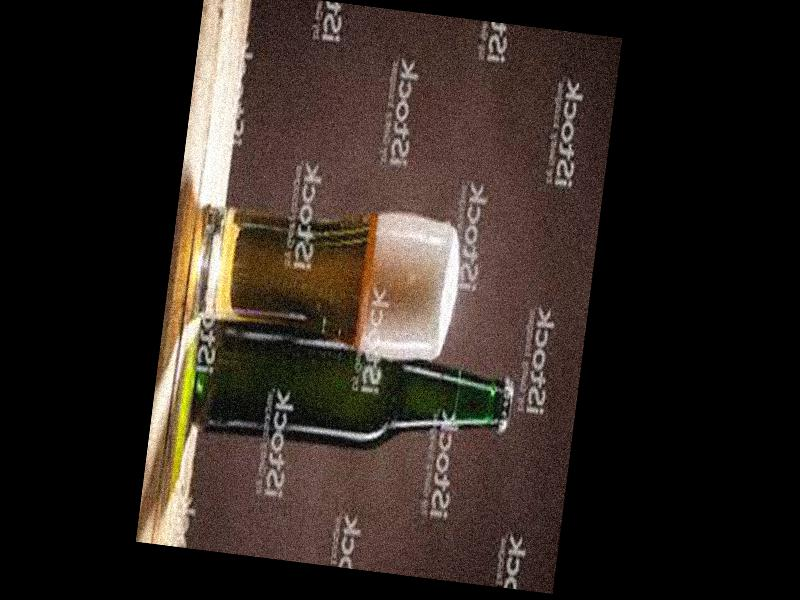Beer: (186, 314, 517, 470)
